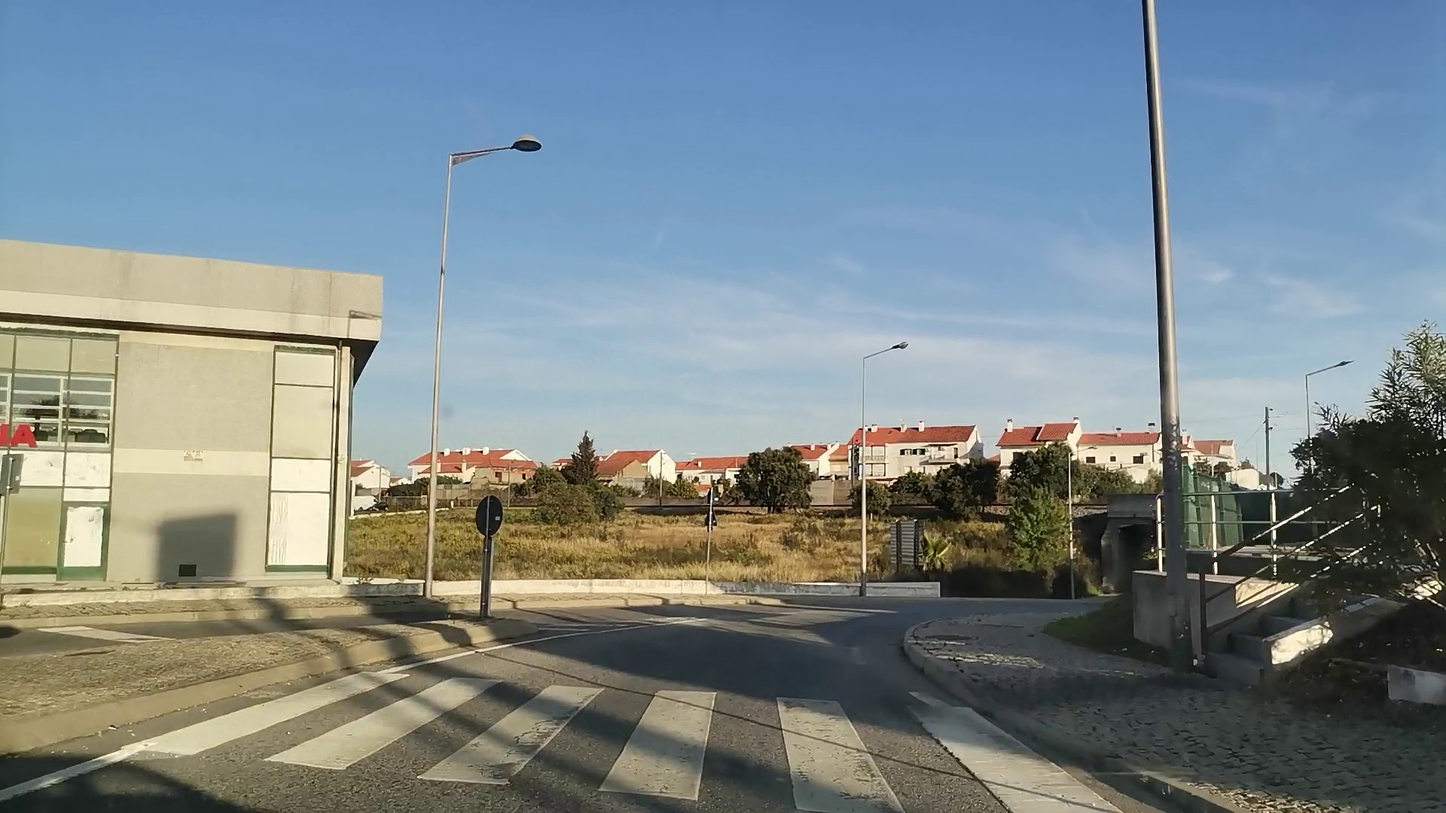Stairs: (224, 655, 1112, 813)
